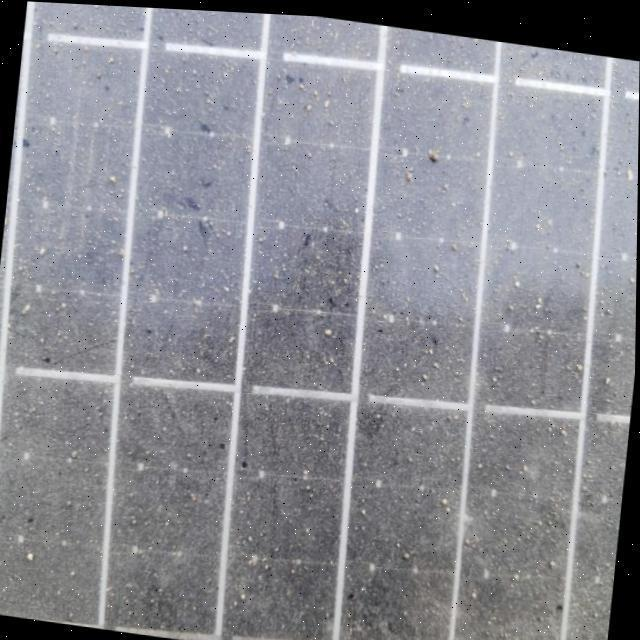Anomaly Solar Panel: (0, 1, 640, 640)
Surface Contaminant: (0, 1, 640, 640)
